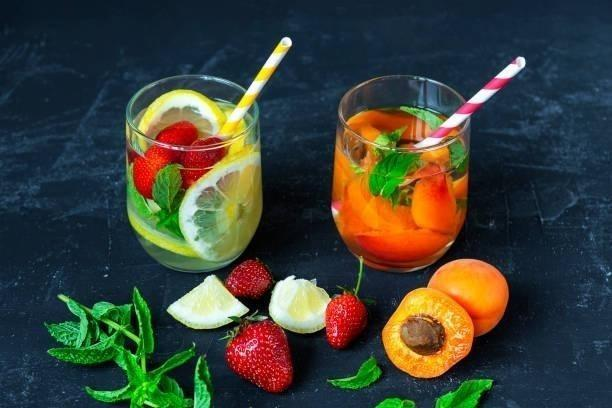glass-normal: (329, 74, 474, 273), (124, 73, 265, 275)
